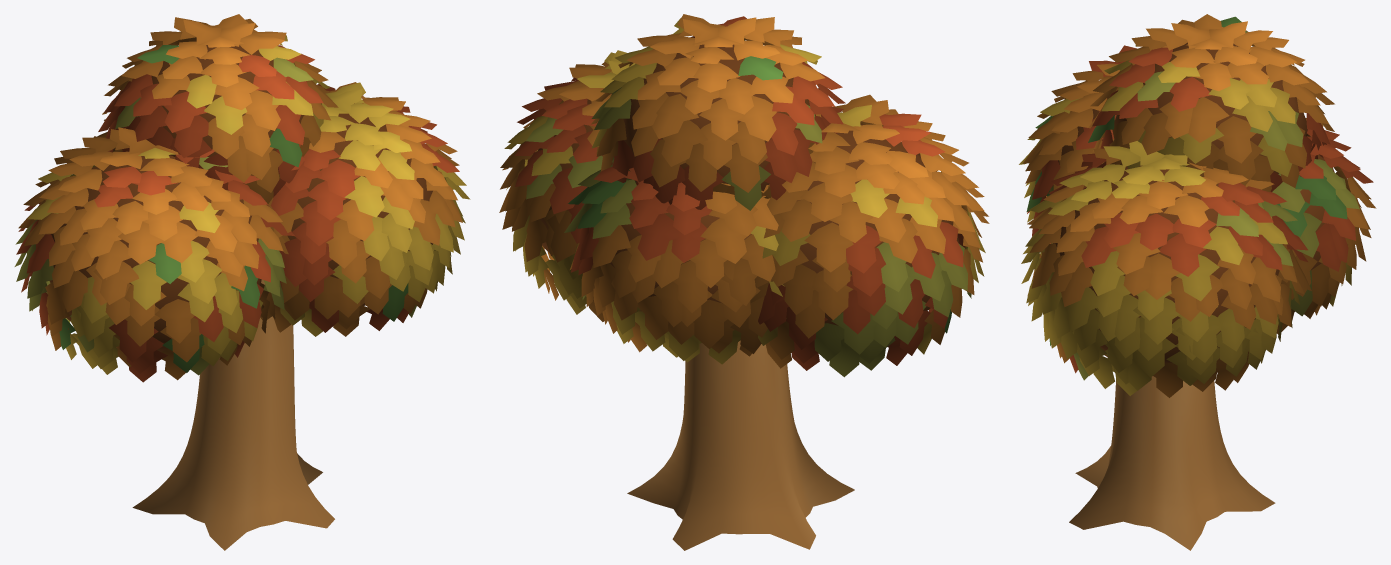
Rendered from tree_round_a_fall.glb.
3 views of the same model, side by side, from view 1: azimuth 30°, elevation 25°; view 2: azimuth 150°, elevation 25°; view 3: azimuth 270°, elevation 25° (orthographic). The views are drawn at different scales.
Visible parts, largest first — view 1: tree_round_a_fall; view 2: tree_round_a_fall; view 3: tree_round_a_fall.
Boxes of the visible parts, left/top/right/bottom form: tree_round_a_fall: left=14, top=14, right=470, bottom=550; tree_round_a_fall: left=499, top=14, right=989, bottom=550; tree_round_a_fall: left=1019, top=14, right=1376, bottom=550.
Size of the model in its own units: 3.5 by 3.66 by 2.51.
